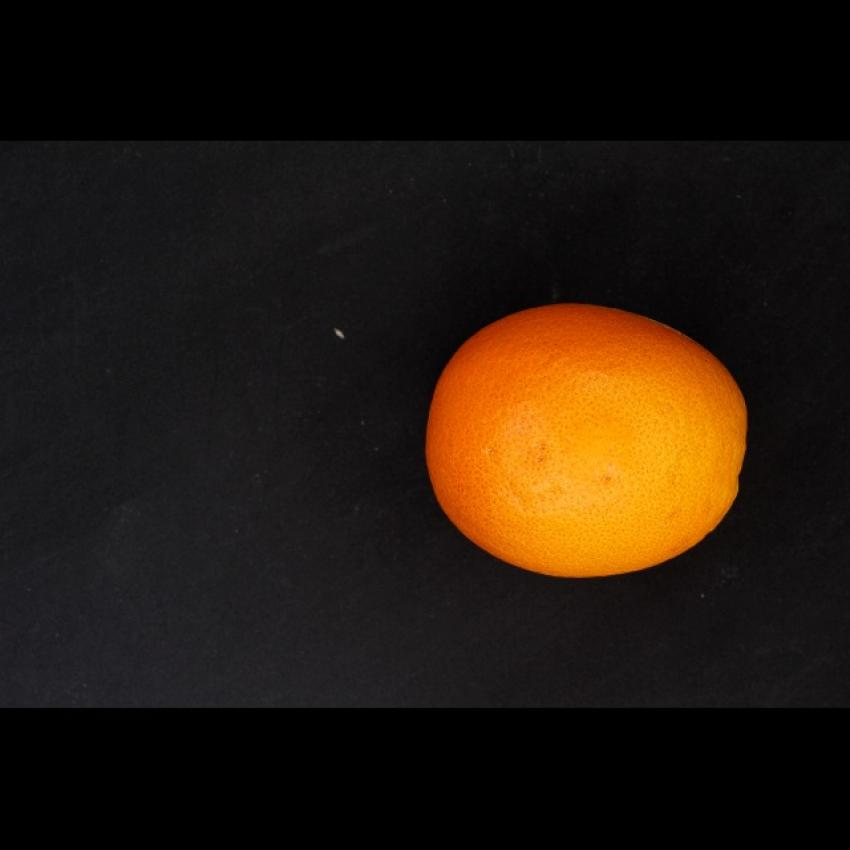Mal estado: (417, 293, 764, 588)
